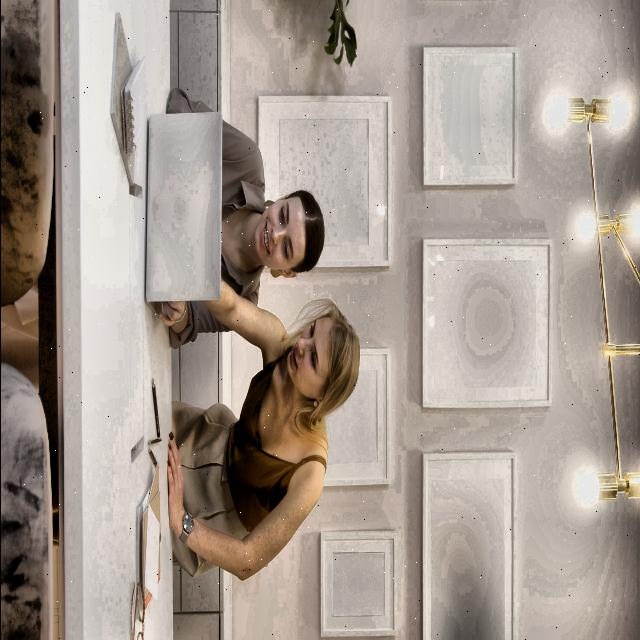not-gloved: (158, 432, 198, 548)
